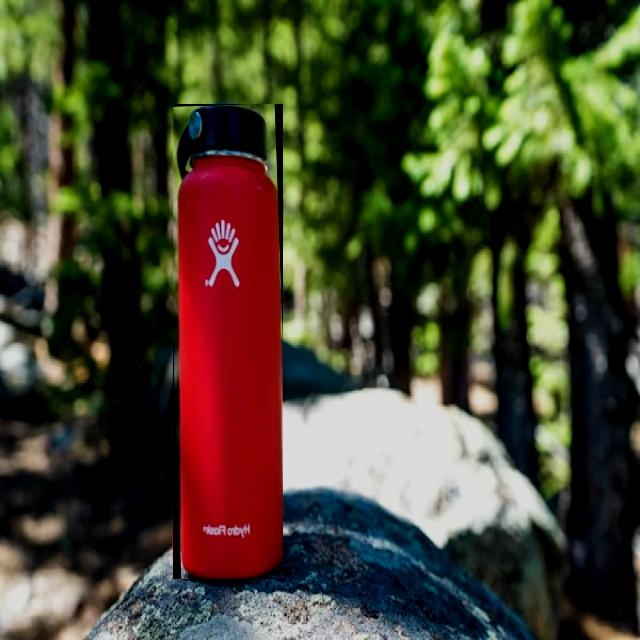Bottle: (172, 104, 281, 579)
